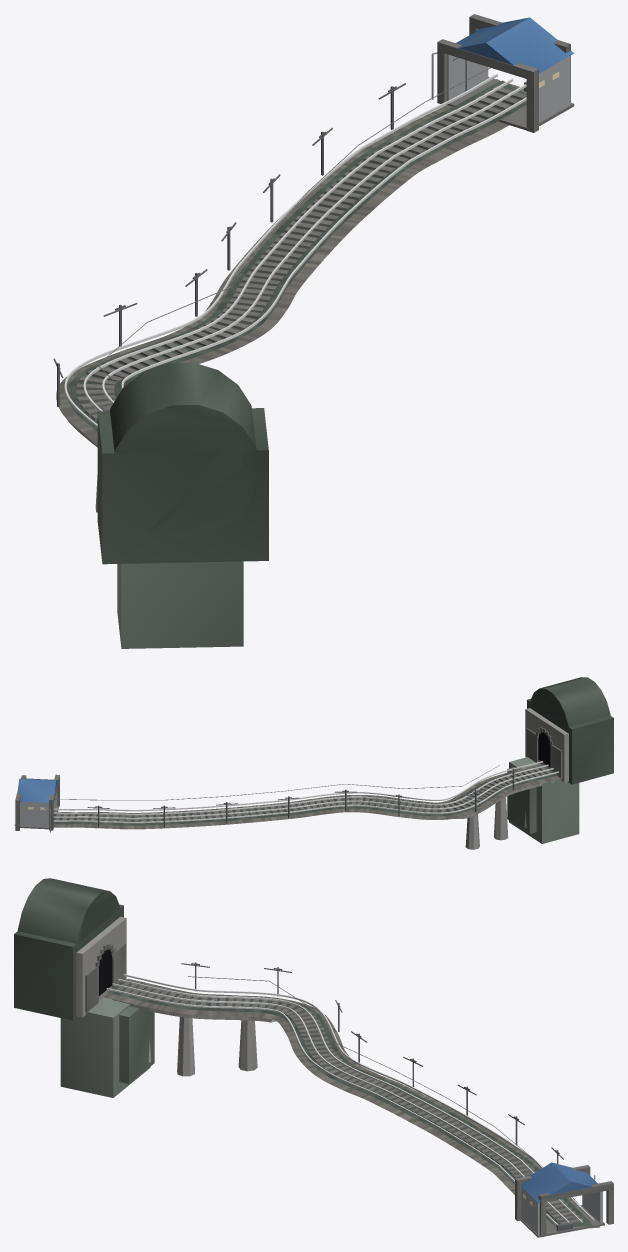
The model's file is Rail_P3.fbx.
The picture shows the model from 3 angles, top to bottom: view 1: azimuth 30°, elevation 25°; view 2: azimuth 150°, elevation 25°; view 3: azimuth 270°, elevation 25°; orthographic projection. The views are drawn at different scales.
Visible parts, largest first — view 1: Rail.Portal, Rail.Sleepers, Rail.Shed, Rail.Bed, Rail.Ballast, Rail.Rail.003, Rail.Rail.002, Rail.Rail.001, Rail.Rail, Rail.Masts; view 2: Rail.Portal, Rail.Ballast, Rail.Bed, Rail.Sleepers, Rail.Shed, Rail.Rail.003, Rail.Rail.002, Rail.Rail.001, Rail.Rail, Rail.Piers, Rail.Masts, Rail.Catenary (+1 smaller); view 3: Rail.Portal, Rail.Sleepers, Rail.Shed, Rail.Bed, Rail.Ballast, Rail.Piers, Rail.Rail.002, Rail.Rail.003, Rail.Rail.001, Rail.Rail, Rail.Masts, Rail.Deck0.
Boxes of the visible parts, x1,y1,x2,y2 form: Rail.Portal: (97, 362, 268, 648); Rail.Sleepers: (76, 86, 526, 422); Rail.Shed: (437, 14, 574, 132); Rail.Bed: (67, 80, 526, 431); Rail.Ballast: (56, 79, 509, 445); Rail.Rail.003: (64, 73, 497, 427); Rail.Rail.002: (83, 78, 513, 411); Rail.Rail.001: (102, 84, 526, 403); Rail.Rail: (121, 97, 526, 388); Rail.Masts: (53, 57, 466, 411); Rail.Portal: (507, 677, 613, 843); Rail.Ballast: (14, 764, 560, 829); Rail.Bed: (53, 765, 557, 825); Rail.Sleepers: (53, 767, 551, 823); Rail.Shed: (15, 774, 59, 830); Rail.Rail.003: (53, 771, 558, 823); Rail.Rail.002: (53, 768, 553, 819); Rail.Rail.001: (53, 764, 548, 815); Rail.Rail: (53, 761, 543, 811); Rail.Piers: (465, 797, 526, 849); Rail.Masts: (87, 767, 521, 827); Rail.Catenary: (54, 765, 499, 800); Rail.Portal: (14, 878, 154, 1097); Rail.Sleepers: (115, 982, 584, 1224); Rail.Shed: (515, 1162, 613, 1237); Rail.Bed: (107, 979, 592, 1227); Rail.Ballast: (103, 978, 599, 1228); Rail.Piers: (148, 1017, 257, 1076); Rail.Rail.002: (118, 979, 582, 1222); Rail.Rail.003: (123, 974, 594, 1220); Rail.Rail.001: (112, 983, 569, 1222); Rail.Rail: (106, 988, 557, 1225); Rail.Masts: (181, 962, 595, 1213); Rail.Deck0: (112, 999, 275, 1022).
Size of the model in its own units: 17205 by 5389 by 16240.
